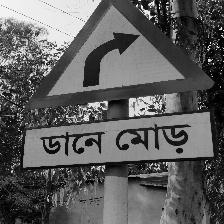Right-turn: (23, 1, 217, 170)
